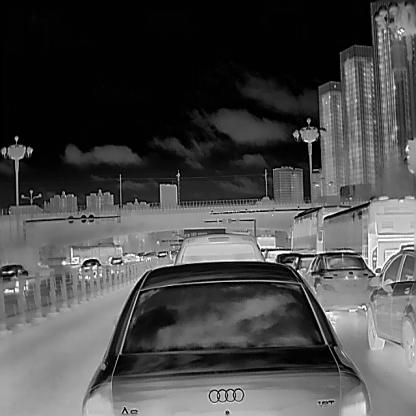bus: (316, 193, 416, 279), (286, 203, 354, 254), (69, 243, 124, 266), (255, 234, 276, 254), (122, 250, 139, 262), (142, 250, 157, 261), (136, 250, 147, 261), (156, 250, 168, 258)
car: (79, 258, 371, 416), (366, 246, 416, 372), (304, 250, 377, 318), (171, 233, 265, 266), (0, 262, 29, 293), (291, 251, 320, 275), (274, 250, 303, 270), (77, 258, 103, 280), (259, 246, 292, 262), (110, 256, 125, 273)
